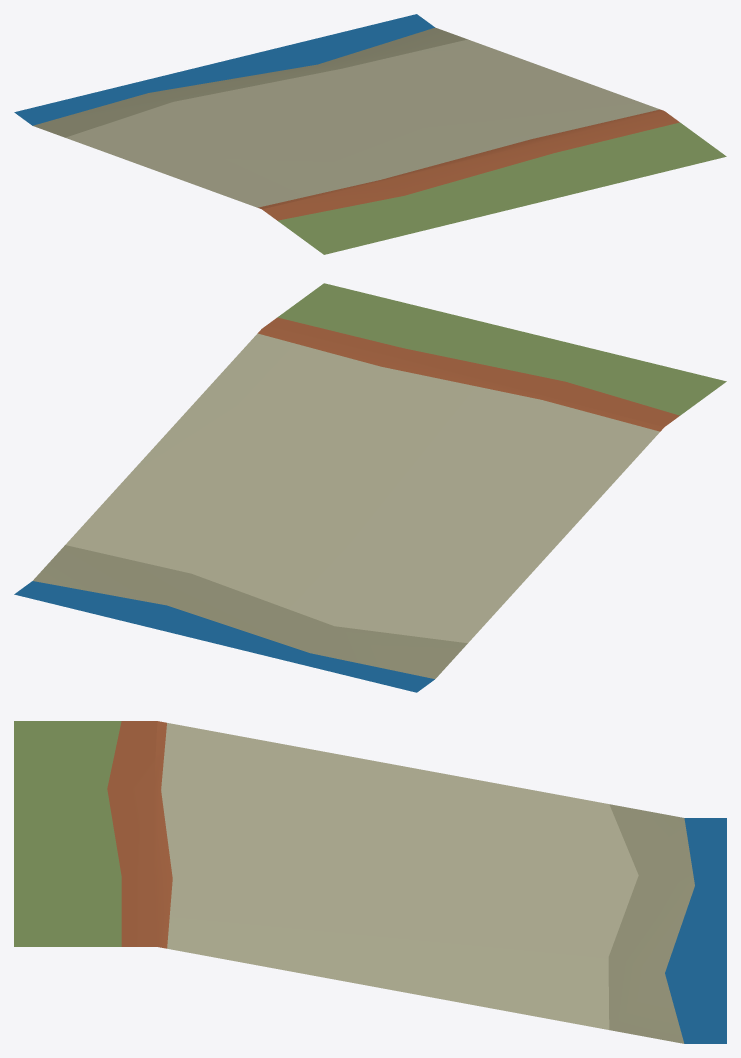
File: SA_Env_BeachSection_01.gltf
The picture shows the model from 3 angles, top to bottom: view 1: azimuth 30°, elevation 25°; view 2: azimuth 150°, elevation 25°; view 3: azimuth 270°, elevation 25°; orthographic projection. The views are drawn at different scales.
Parts seen in each view (by area): view 1: SA_Env_BeachSection_01; view 2: SA_Env_BeachSection_01; view 3: SA_Env_BeachSection_01.
Boxes of the visible parts, x1,y1,x2,y2 form: SA_Env_BeachSection_01: (14, 14, 726, 254); SA_Env_BeachSection_01: (14, 283, 726, 692); SA_Env_BeachSection_01: (14, 721, 726, 1043).
Size of the model in its own units: 15 by 3 by 20.
1 material, 1 textured.
